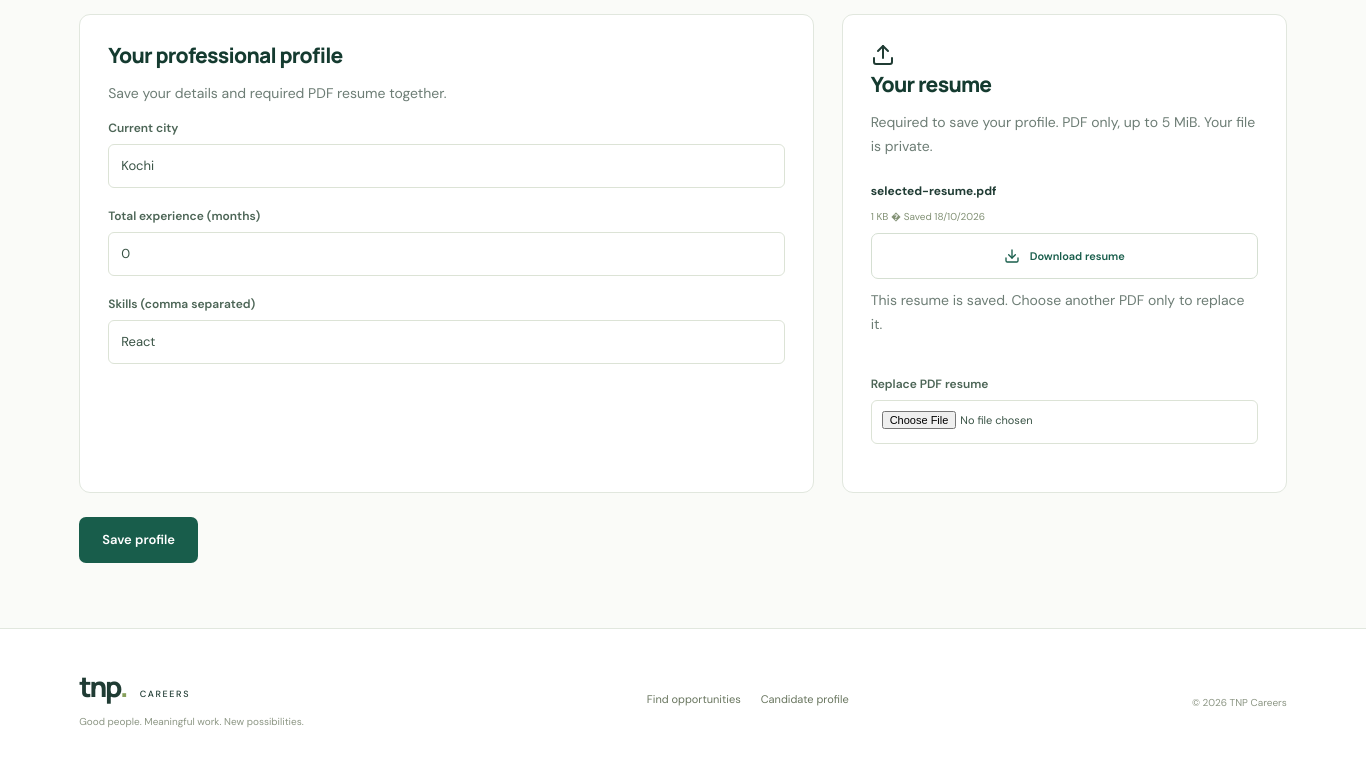
Test: can edit a saved profile without selecting its resume again
(page scrolled)
Expected: the text "selected-resume.pdf" is shown, top-left (871, 184), bottom-right (996, 200)
Step 1. Click the button "Save profile" → (139, 540), box top-left (79, 517), bottom-right (198, 563)
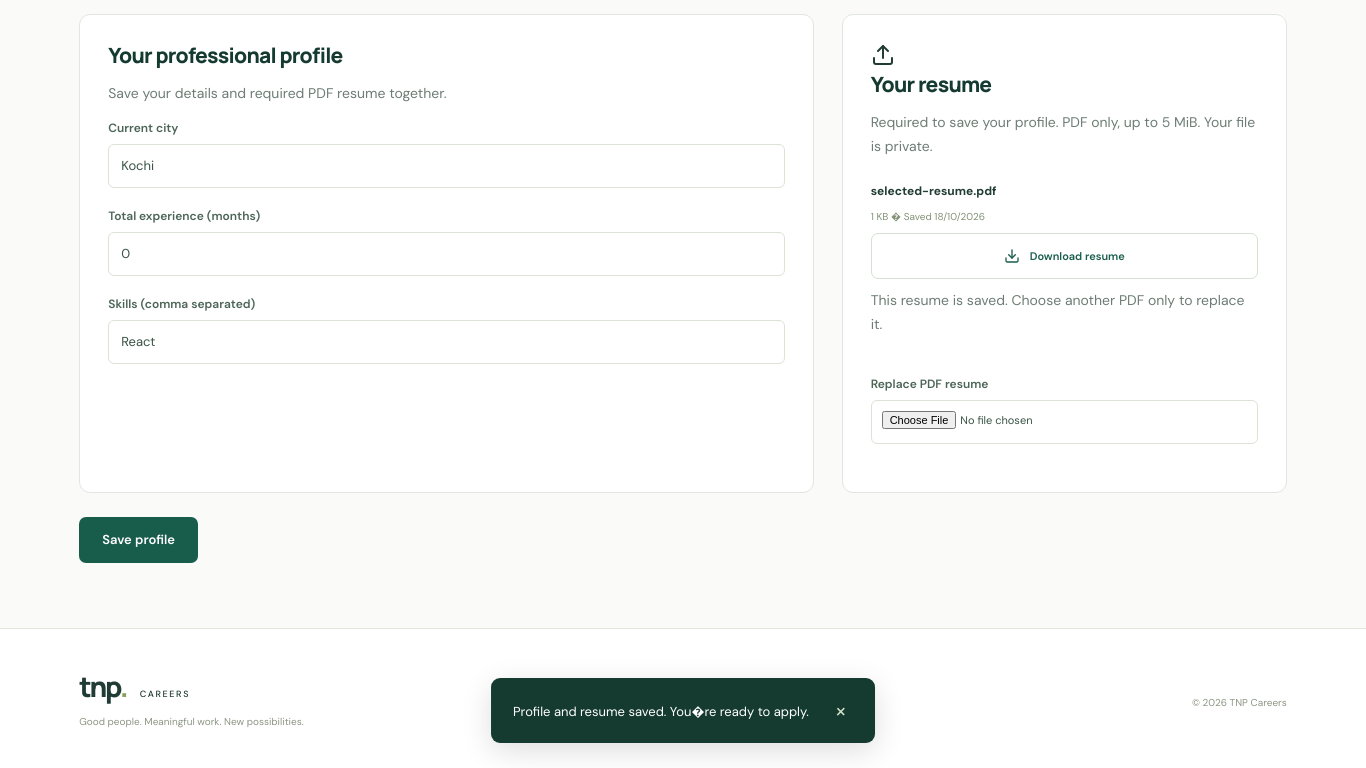
Now the message shows "Profile and resume saved", box top-left (513, 702), bottom-right (809, 720)
